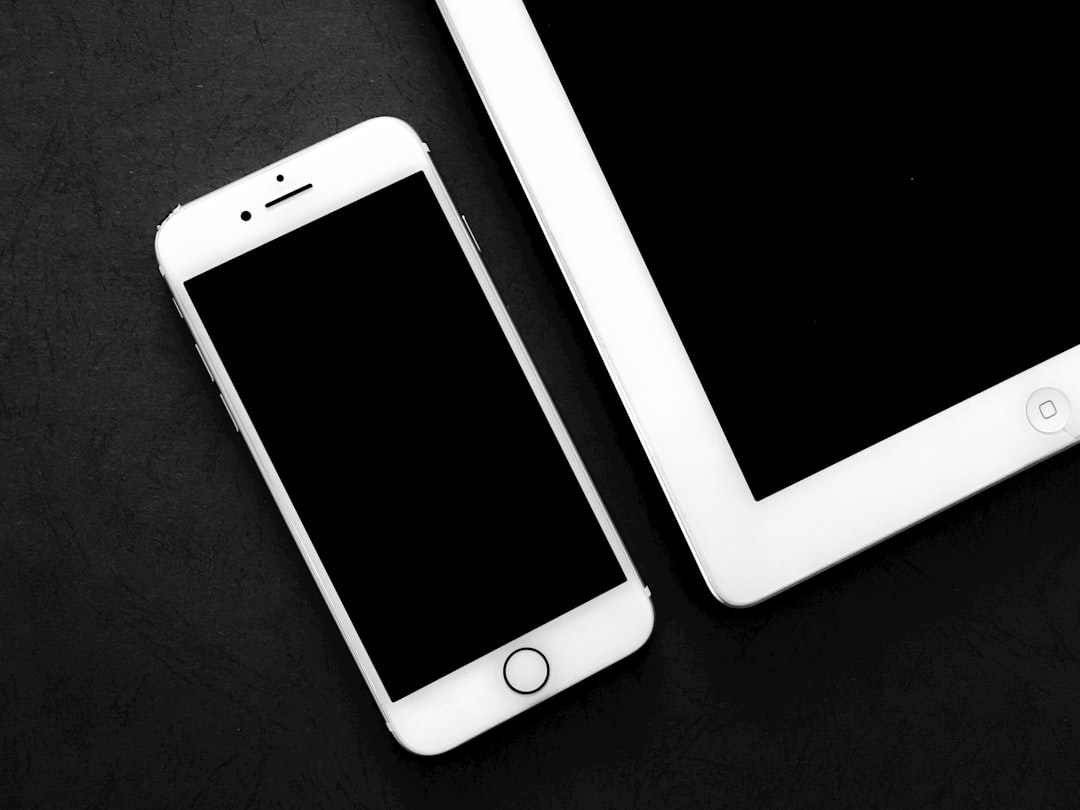phone: (150, 113, 658, 758)
